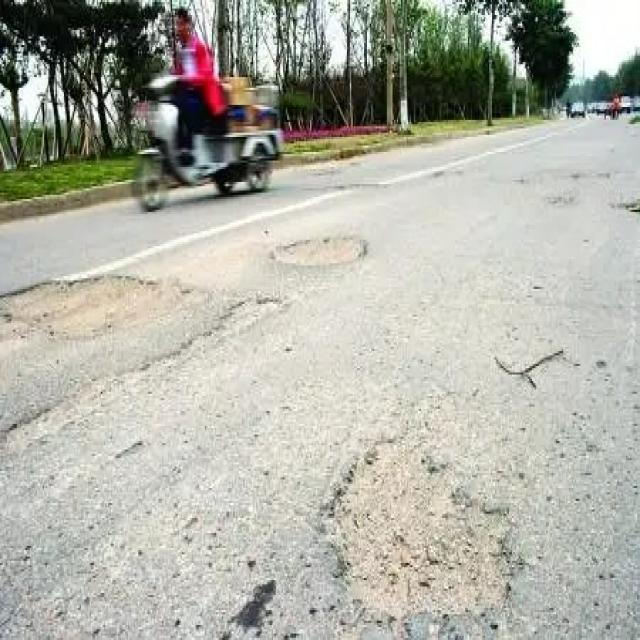Buraco: (0, 291, 295, 461), (310, 434, 522, 640), (1, 271, 218, 345), (266, 233, 373, 271)
